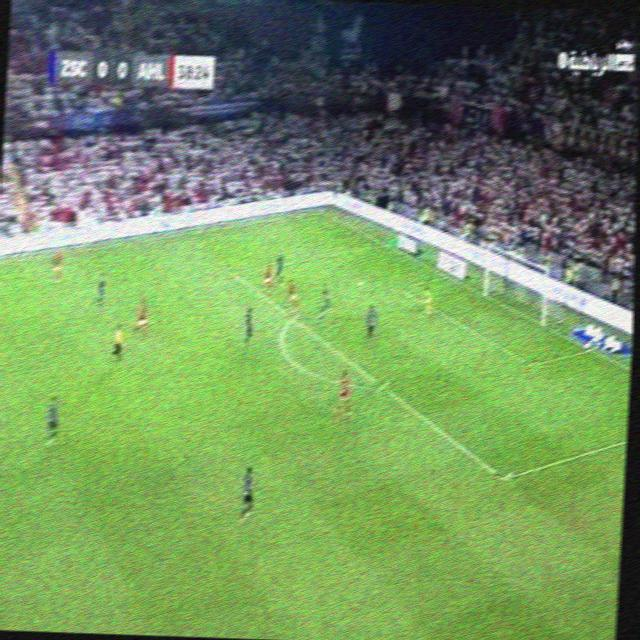bigarea_bottom_inner: (493, 464, 513, 488)
bigarea_top_inner: (223, 262, 242, 280)
bigarea_top_outter: (376, 236, 390, 249)
bottom_arc_area_intersection: (374, 376, 391, 394)
smallarea_bottom_inner: (522, 353, 539, 372)
smallarea_bottom_outter: (582, 340, 598, 356)
smallarea_top_inner: (390, 278, 402, 291)
smallarea_top_outter: (439, 266, 454, 282)
top_arc_area_intersection: (285, 308, 301, 326)
